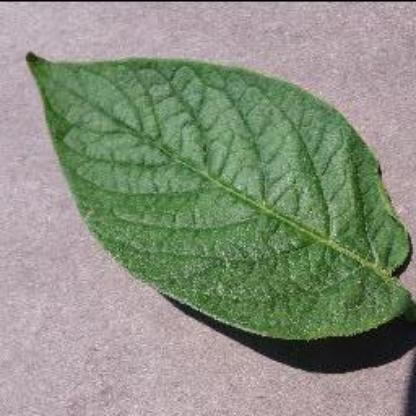Healthy-plant: (20, 47, 412, 346)
